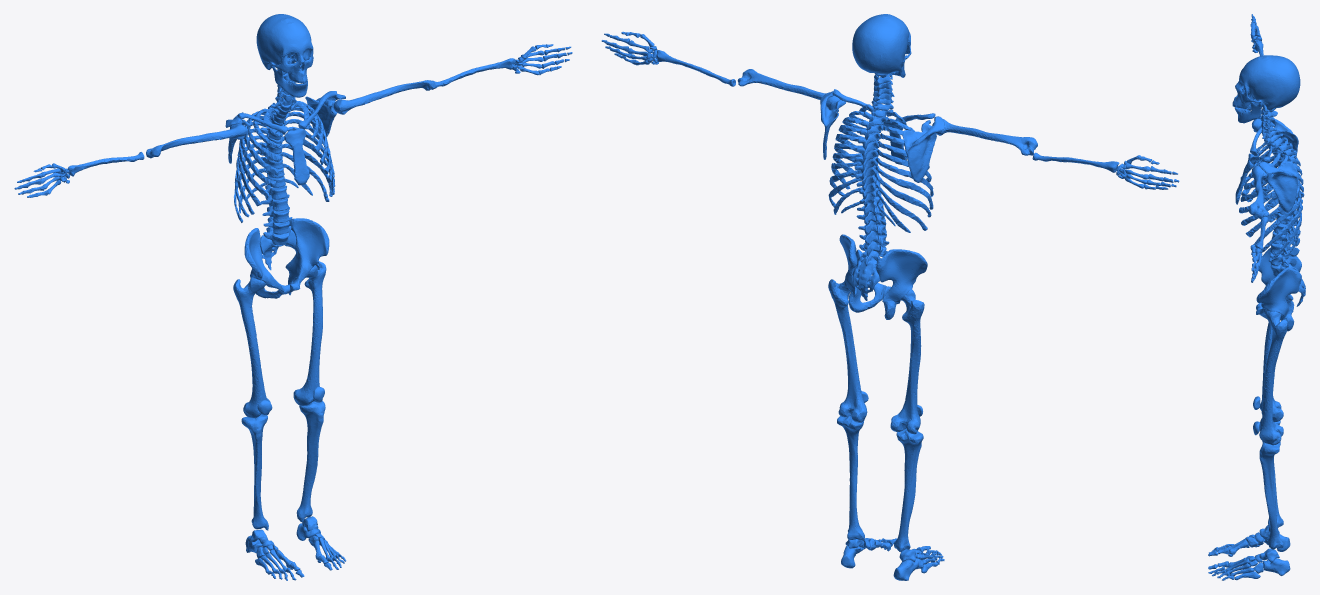
The model's file is standard_blue_male.obj.
The picture shows the model from 3 angles, left to right: view 1: azimuth 30°, elevation 25°; view 2: azimuth 150°, elevation 25°; view 3: azimuth 270°, elevation 25°; orthographic projection. The views are drawn at different scales.
Visible parts, largest first — view 1: Head, Pelvis_L, Femur_R, Femur_L, Tibia_L, Tibia_R, Pelvis_R, Humerus_R, Humerus_L, Sternum; view 2: Head, Femur_R, Femur_L, Pelvis_R, Tibia_R, Scapula_R, Tibia_L, Pelvis_L, Humerus_R, Humerus_L, Sacrum; view 3: Head, Femur_L, Pelvis_L, Tibia_L, Scapula_L, Humerus_L, Femur_R, Pelvis_R, Jaw, Scapula_R, Cal_L, Rib8_L (+16 smaller).
Boxes of the visible parts, x1,y1,x2,y2 form: Head: (256, 14, 313, 83); Pelvis_L: (285, 218, 329, 295); Femur_R: (233, 276, 270, 418); Femur_L: (293, 261, 326, 405); Tibia_L: (296, 400, 325, 522); Tibia_R: (241, 414, 268, 530); Pelvis_R: (244, 228, 290, 298); Humerus_R: (146, 124, 247, 158); Humerus_L: (333, 80, 435, 114); Sternum: (284, 128, 309, 185); Head: (852, 14, 911, 74); Femur_R: (890, 289, 924, 434); Femur_L: (828, 279, 867, 422); Pelvis_R: (876, 249, 927, 319); Tibia_R: (894, 428, 923, 551); Scapula_R: (902, 116, 944, 182); Tibia_L: (837, 415, 864, 540); Pelvis_L: (839, 234, 886, 312); Humerus_R: (932, 119, 1037, 155); Humerus_L: (737, 69, 839, 107); Sacrum: (852, 249, 881, 300); Head: (1232, 55, 1300, 110); Femur_L: (1259, 311, 1287, 445); Pelvis_L: (1256, 267, 1301, 331); Tibia_L: (1259, 441, 1283, 549); Scapula_L: (1259, 161, 1298, 212); Humerus_L: (1249, 166, 1269, 219); Femur_R: (1259, 322, 1283, 422); Pelvis_R: (1256, 247, 1301, 309); Jaw: (1234, 99, 1263, 123); Scapula_R: (1259, 115, 1298, 156); Cal_L: (1262, 558, 1290, 575); Rib8_L: (1253, 191, 1301, 245).
Size of the model in its own units: 1.88 by 1.72 by 0.3009.
